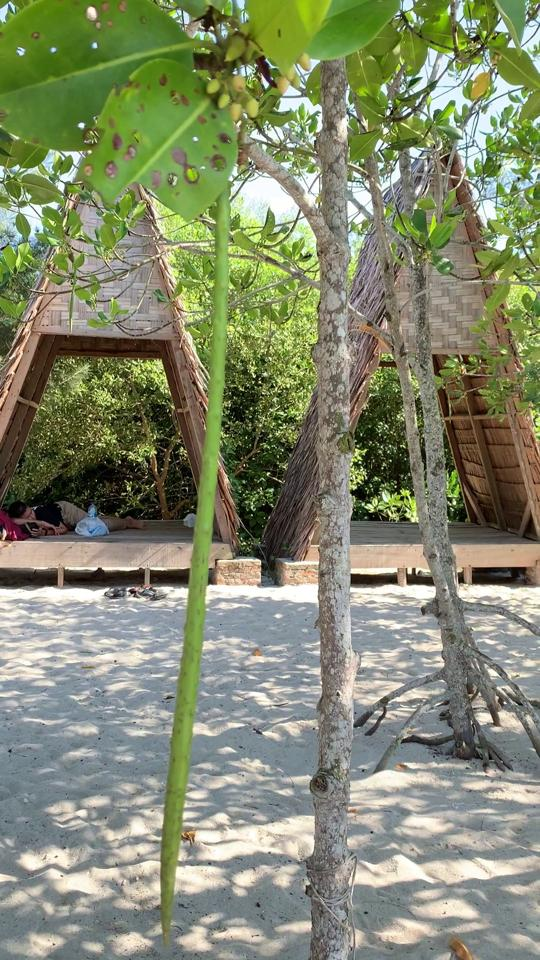mentah: (146, 107, 249, 947)
